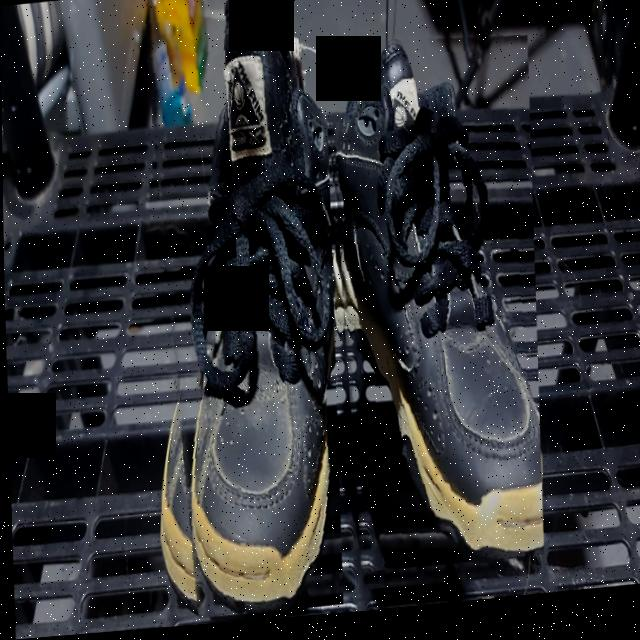shoe: (141, 0, 340, 625), (325, 31, 542, 580)
